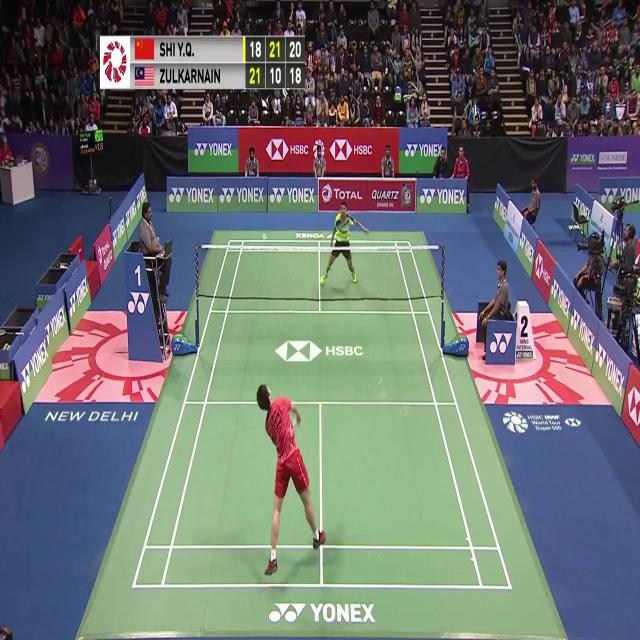Shuttlecock: (260, 232, 267, 243)
